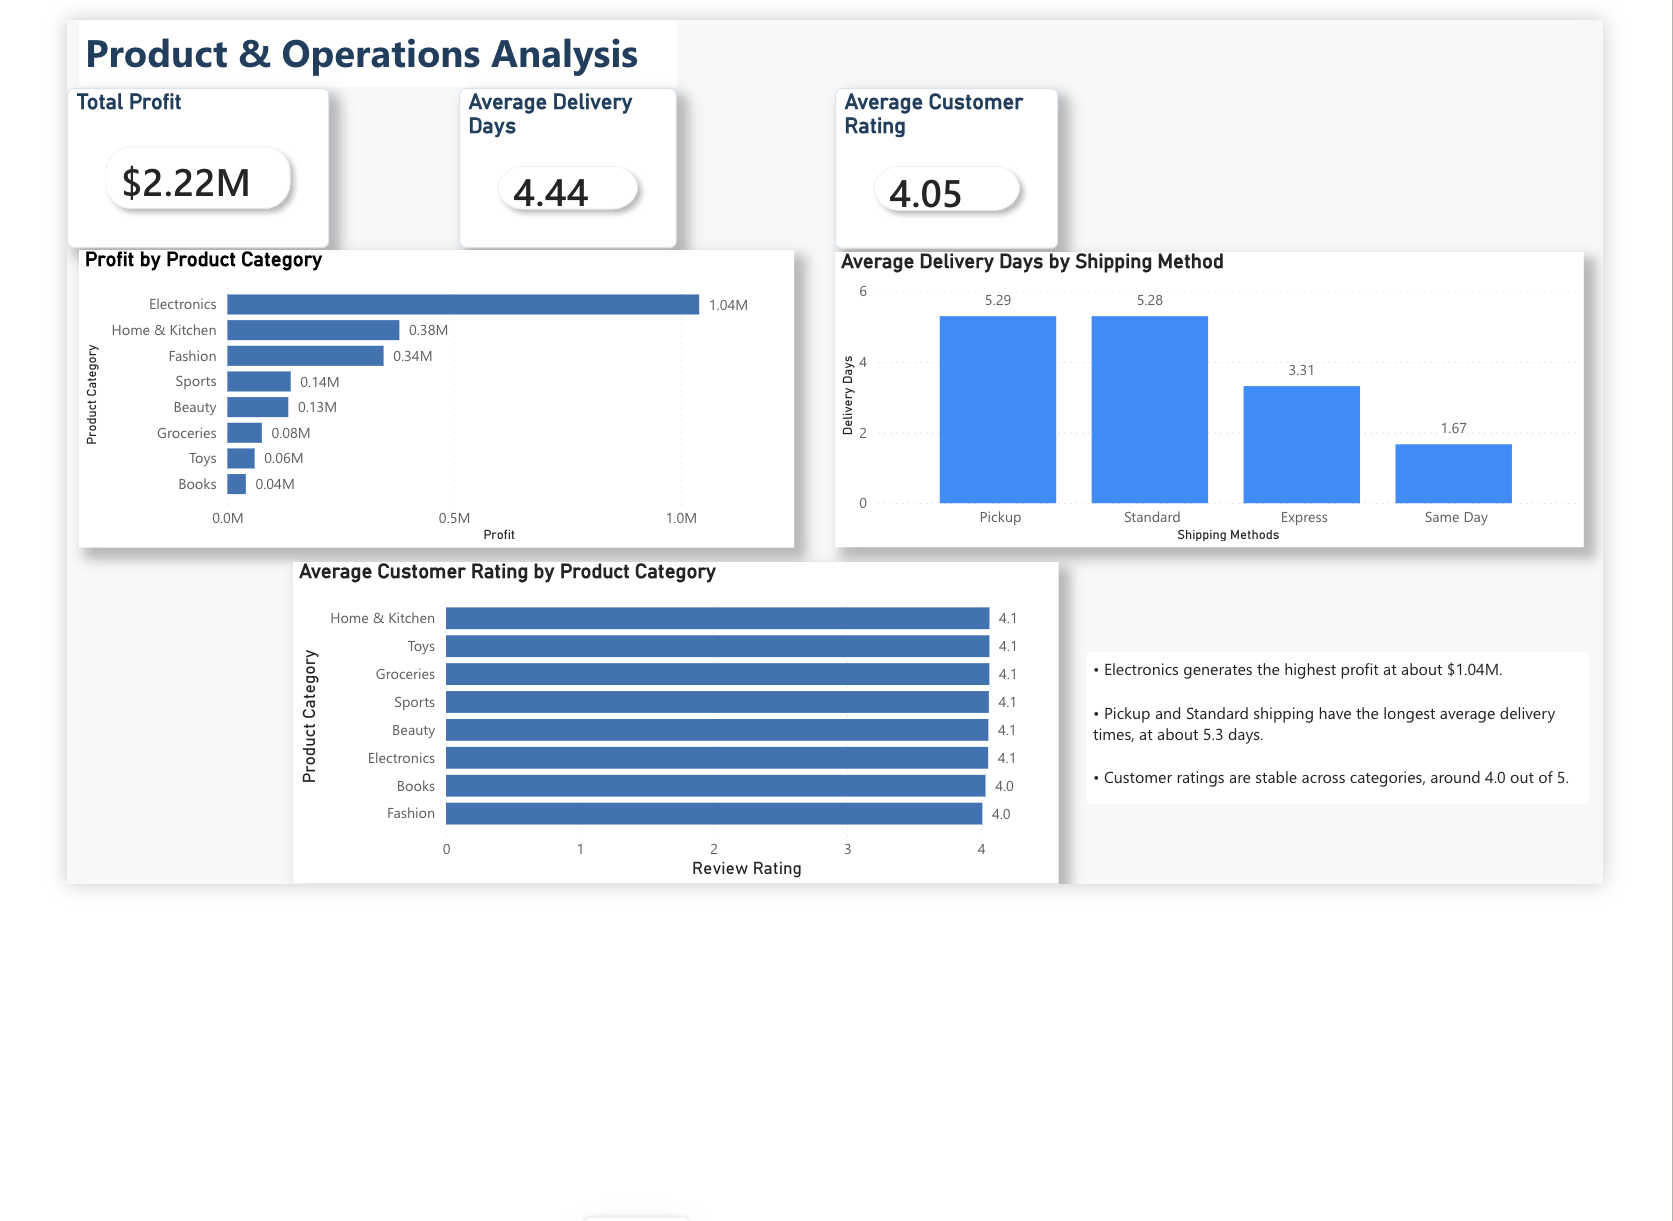

The dashboard page shown, as its layout file describes it:
{"tool":"powerbi","page":{"name":"Page 3","canvas":[1280,720],"ordinal":2},"visuals":[{"type":"textbox","box":[10,0,498,56],"z":0},{"type":"cardVisual","title":"Total Profit","fields":{"Data":["Sum(ecommerce_orders.Profit_Amount)"]},"box":[0,56.7,218.3,133.3],"z":1000},{"type":"cardVisual","title":"Average Delivery Days","fields":{"Data":["Avg(ecommerce_orders.Delivery_Days)"]},"box":[326.7,56.7,181.7,133.3],"z":2000},{"type":"cardVisual","title":"Average Customer Rating","fields":{"Data":["Avg(ecommerce_orders.Review_Rating)"]},"box":[640,56.7,186,134],"z":3000},{"type":"clusteredBarChart","title":"Profit by Product Category","fields":{"Category":["ecommerce_orders.Product_Category"],"Y":["Sum(ecommerce_orders.Profit_Amount)"]},"box":[10,191.7,596,248],"z":4000},{"type":"columnChart","title":"Average Delivery Days by Shipping Method","fields":{"Category":["ecommerce_orders.Shipping_Method"],"Y":["Avg(ecommerce_orders.Delivery_Days)"]},"box":[640,193.3,624,246],"z":5000},{"type":"clusteredBarChart","title":"Average Customer Rating by Product Category","fields":{"Category":["ecommerce_orders.Product_Category"],"Y":["Avg(ecommerce_orders.Review_Rating)"]},"box":[188.3,451.7,638,268],"z":6000},{"type":"textbox","box":[850,526.7,418.3,126.7],"z":6001}]}

Visuals, with their boxes on the page's 1280x720 design canvas (x1, y1, x2, y2). These are canvas units, not pixel positions in the 1673x1221 screenshot, which may show the page scaled, cropped or inside an application window:
textbox: {"left": 10, "top": 0, "right": 508, "bottom": 56}
"Total Profit" cardVisual: {"left": 0, "top": 57, "right": 218, "bottom": 190}
"Average Delivery Days" cardVisual: {"left": 327, "top": 57, "right": 508, "bottom": 190}
"Average Customer Rating" cardVisual: {"left": 640, "top": 57, "right": 826, "bottom": 191}
"Profit by Product Category" clusteredBarChart: {"left": 10, "top": 192, "right": 606, "bottom": 440}
"Average Delivery Days by Shipping Method" columnChart: {"left": 640, "top": 193, "right": 1264, "bottom": 439}
"Average Customer Rating by Product Category" clusteredBarChart: {"left": 188, "top": 452, "right": 826, "bottom": 720}
textbox: {"left": 850, "top": 527, "right": 1268, "bottom": 653}
